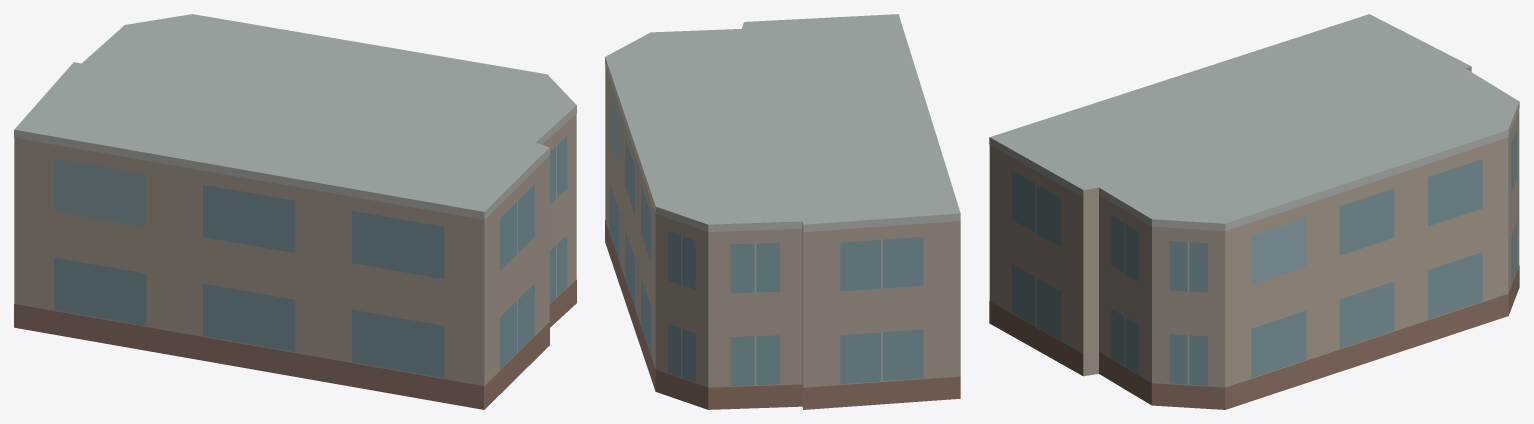
File: survey-upis-32577758.glb
3 renders of one model, left to right at view 1: azimuth 30°, elevation 25°; view 2: azimuth 150°, elevation 25°; view 3: azimuth 270°, elevation 25°, orthographic. The views are drawn at different scales.
Parts seen in each view (by area): view 1: survey-upis-32577758.tmp; view 2: survey-upis-32577758.tmp; view 3: survey-upis-32577758.tmp.
Part boxes in pixels (x1,y1,x2,y2): survey-upis-32577758.tmp: (14,14,576,409); survey-upis-32577758.tmp: (605,14,960,409); survey-upis-32577758.tmp: (989,14,1519,409).
Bounding box in the file's own units: 14.74 × 6.1 × 15.74.
